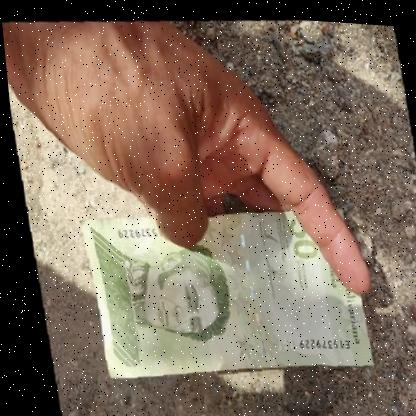fifty-front-vef: (73, 190, 369, 392)
